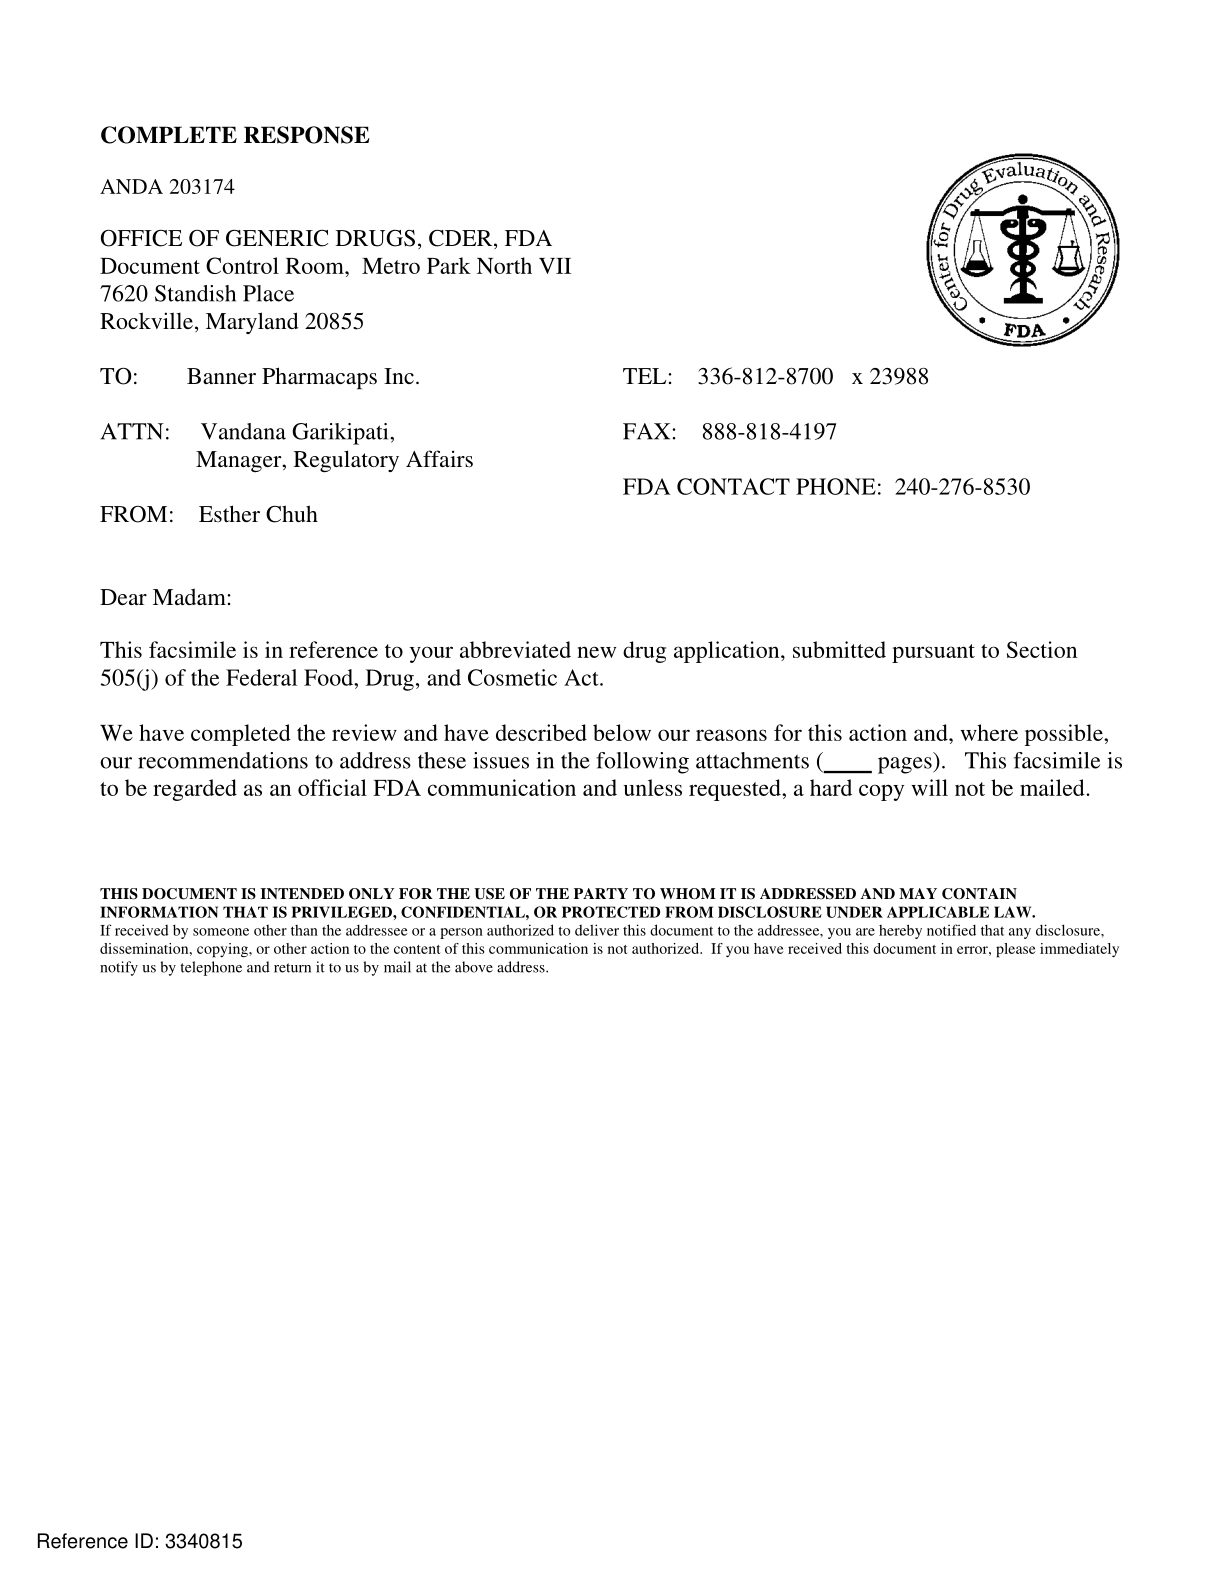nolines: (95, 360, 1038, 527)
